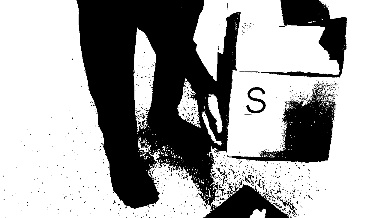S: (242, 82, 269, 114)
